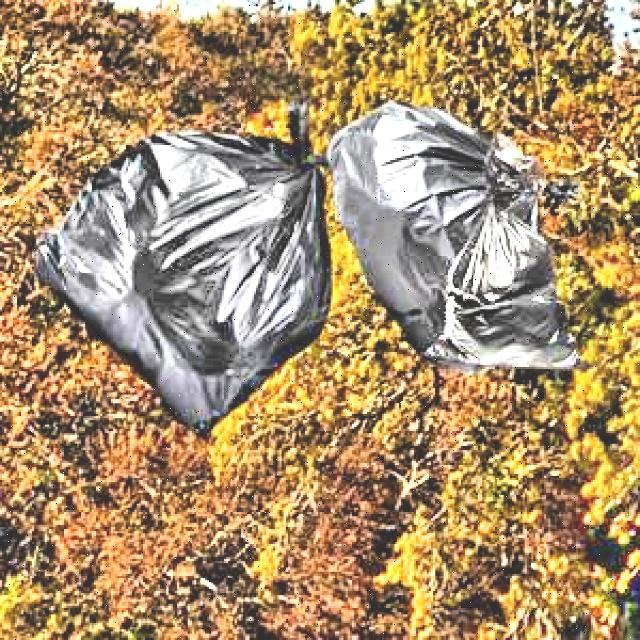Trashbag: (29, 98, 339, 444), (327, 100, 546, 357)
